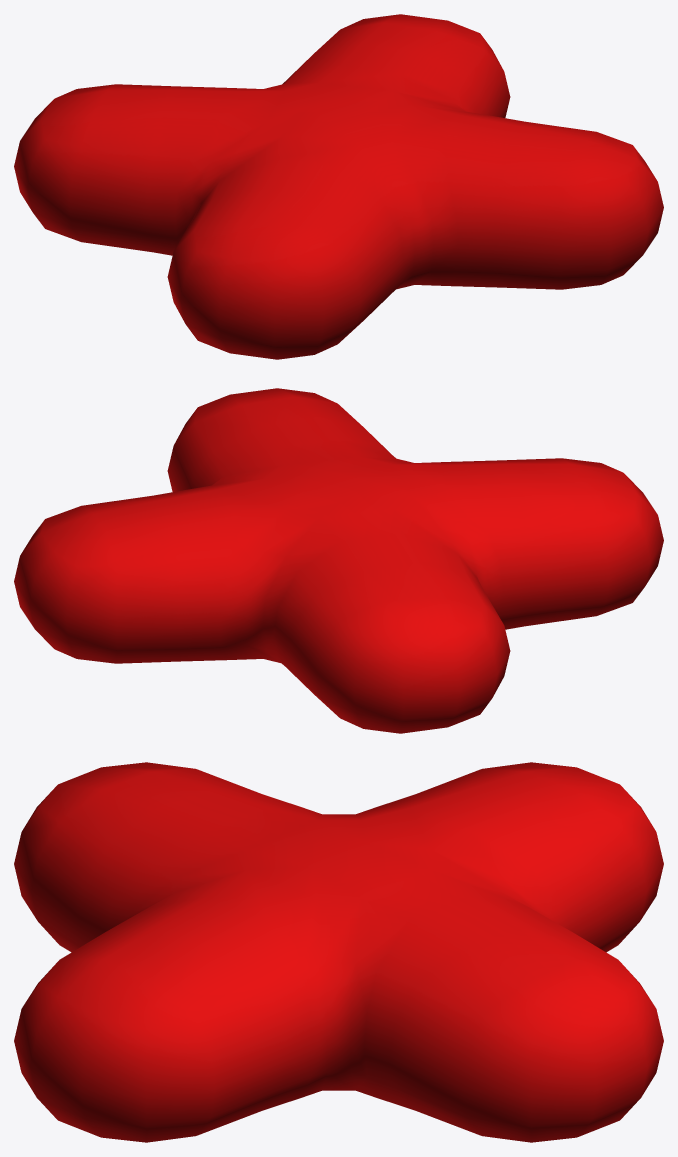
File: FalseSymbol.FBX
3 renders of one model, top to bottom at view 1: azimuth 30°, elevation 25°; view 2: azimuth 150°, elevation 25°; view 3: azimuth 270°, elevation 25°, orthographic. The views are drawn at different scales.
Parts seen in each view (by area): view 1: FalseSymbol; view 2: FalseSymbol; view 3: FalseSymbol.
Boxes of the visible parts, <box> form: FalseSymbol: <box>14,14,663,359</box>; FalseSymbol: <box>14,388,663,733</box>; FalseSymbol: <box>14,762,663,1142</box>.
Size of the model in its own units: 33.71 by 10.62 by 32.05.
1 material, 1 textured.
